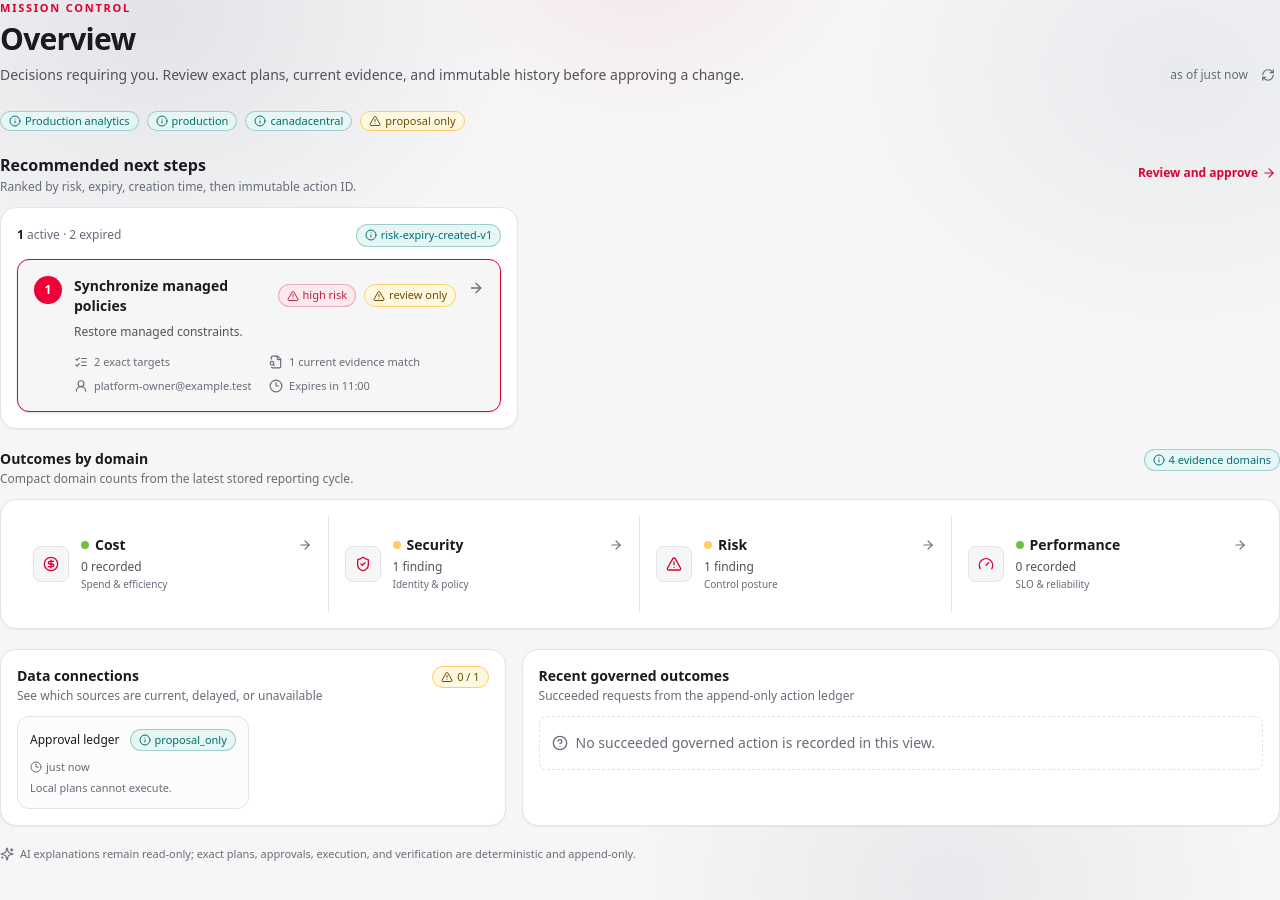
Test: labels proposal-only decision details without exposing approval
This screenshot has width=1280, height=900.
Check: the text "proposal only" is shown, box [360,110,465,131]
Check: the text "review only" is shown, box [364,284,456,307]
Click the button with aria-label "Open Synchronize managed policies decision": (151,285) [17,259,501,412]
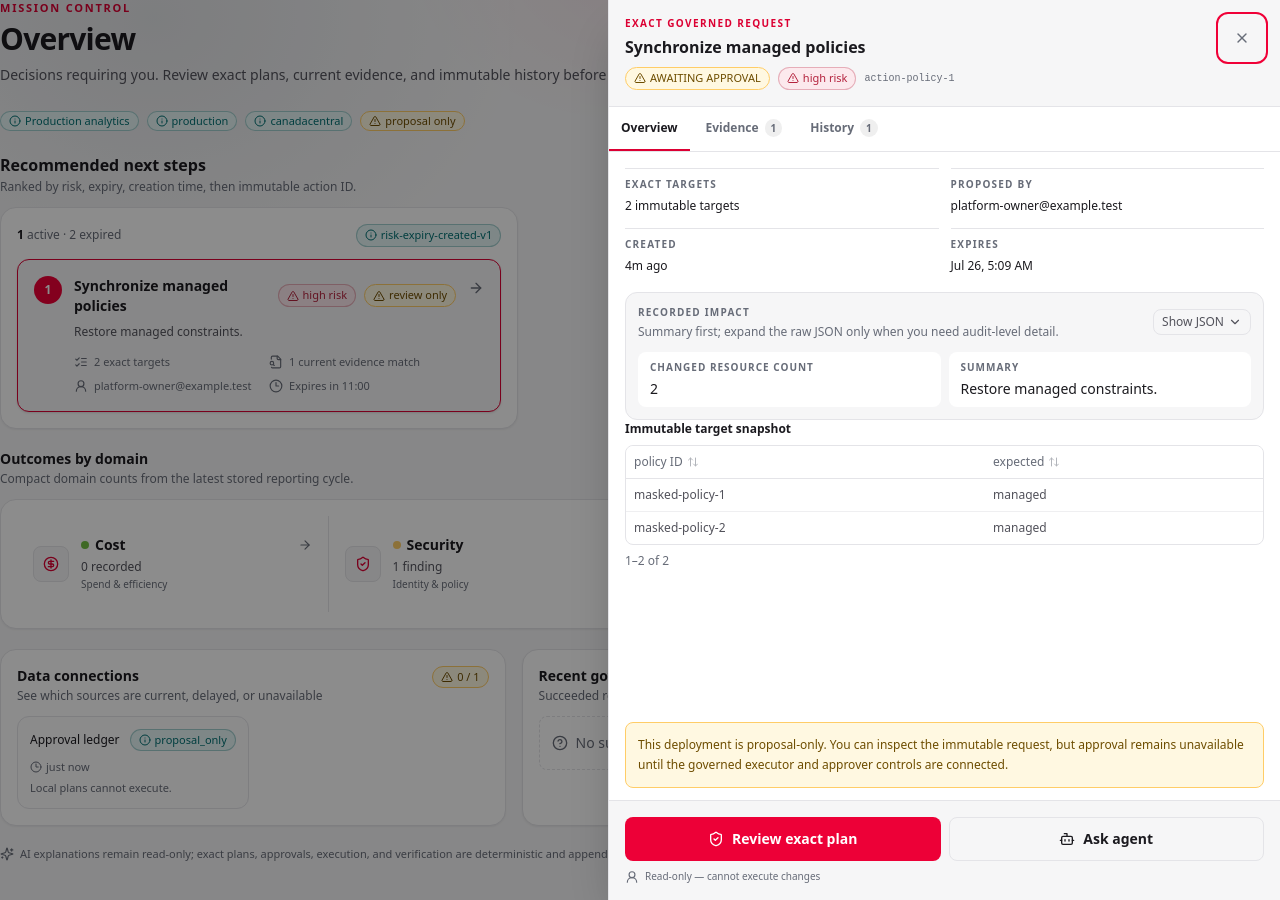
Check: the text "This deployment is proposal-only" is shown, box [638,736,1244,773]
